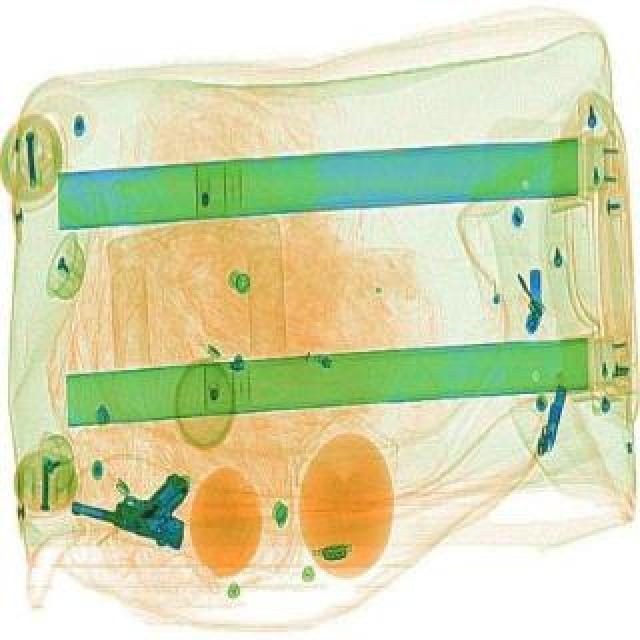gun: (64, 446, 198, 542)
